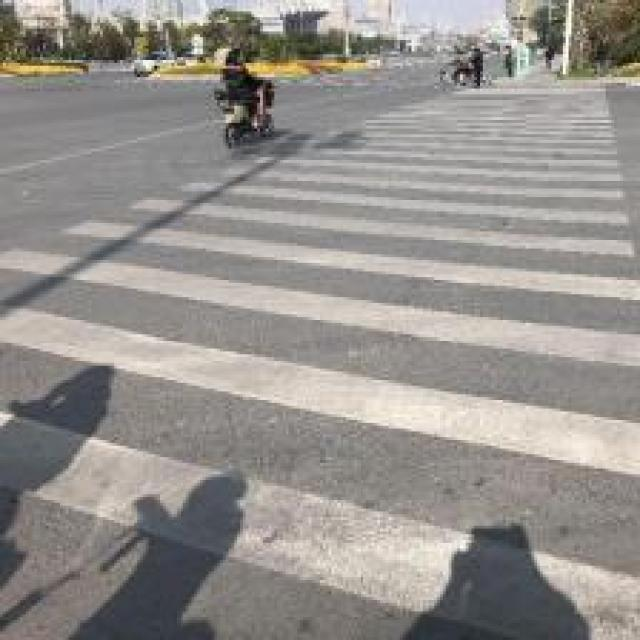walk-crossing: (301, 81, 633, 584)
